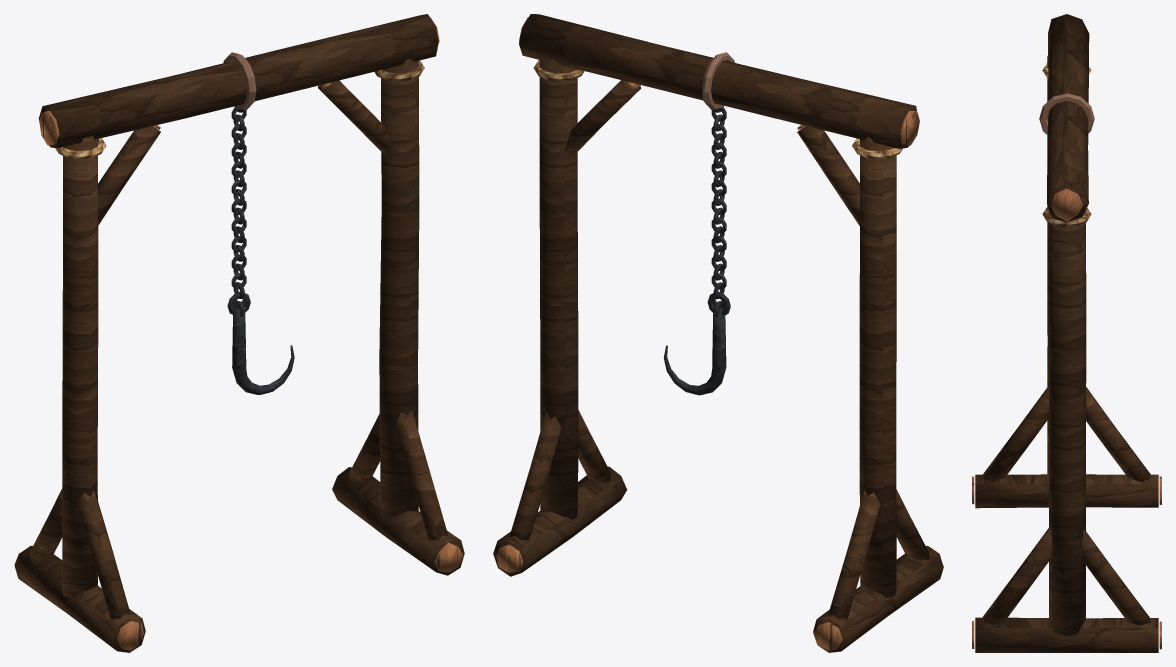
The model's file is hanging_hook.glb.
3 views of the same model, side by side, from view 1: azimuth 30°, elevation 25°; view 2: azimuth 150°, elevation 25°; view 3: azimuth 270°, elevation 25° (orthographic). The views are drawn at different scales.
Parts seen in each view (by area): view 1: model; view 2: model; view 3: model.
Part boxes in pixels (bbox=[...]): model: bbox=[14, 14, 464, 652]; model: bbox=[493, 14, 943, 652]; model: bbox=[972, 14, 1161, 652].
Bounding box in the file's own units: 1.56 × 2.05 × 0.724.
Materials: 8 (7 with a texture image).
